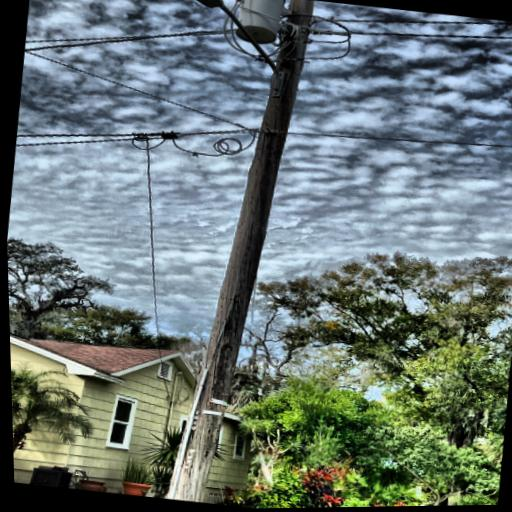pole: (117, 0, 353, 510)
street light: (149, 0, 299, 104)
transformer: (231, 0, 286, 46)
